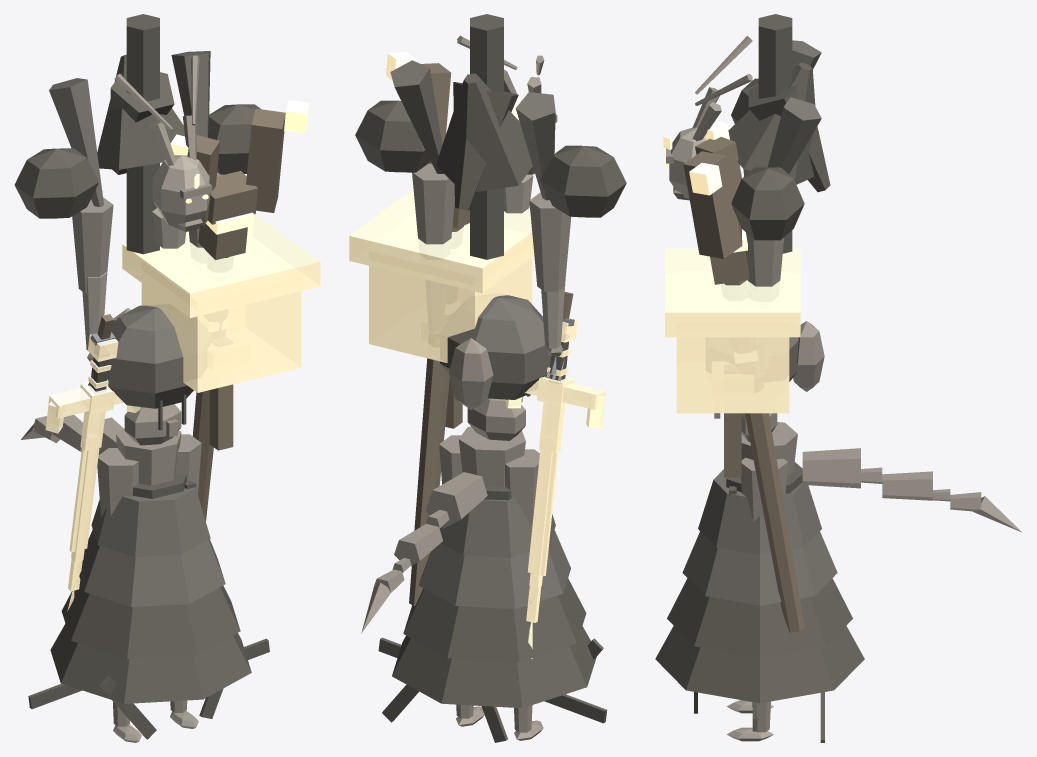
Rendered from margit.glb.
The picture shows the model from 3 angles, left to right: view 1: azimuth 30°, elevation 25°; view 2: azimuth 150°, elevation 25°; view 3: azimuth 270°, elevation 25°; orthographic projection. The views are drawn at different scales.
Visible parts, largest first — view 1: hammerFace, hammerHead, robe2, robe3, robe1, chest, robe0, yoke, deltL, cloakCollar, staffForkR, skull (+29 smaller); view 2: robe3, robe2, hammerFace, hammerHead, robe1, chest, cloakCollar, deltL, yoke, robe0, staffShaft, deltR (+25 smaller); view 3: hammerFace, robe3, hammerHead, robe2, robe1, robe0, staffShaft, deltR, staffForkR, cloakCollar, yoke, cowlR (+13 smaller).
Part boxes in pixels (<box>): hammerFace: <box>122,214,320,318</box>; hammerHead: <box>141,283,301,392</box>; robe2: <box>61,580,240,658</box>; robe3: <box>50,624,251,703</box>; robe1: <box>79,530,225,607</box>; chest: <box>107,305,193,408</box>; robe0: <box>91,479,210,556</box>; yoke: <box>126,14,159,254</box>; deltL: <box>14,148,99,218</box>; cloakCollar: <box>97,54,184,169</box>; staffForkR: <box>246,108,285,212</box>; skull: <box>152,155,209,227</box>; robe3: <box>392,626,596,708</box>; robe2: <box>403,578,586,662</box>; hammerFace: <box>349,189,534,293</box>; hammerHead: <box>369,257,532,362</box>; robe1: <box>418,530,570,609</box>; chest: <box>440,295,550,399</box>; cloakCollar: <box>436,73,532,191</box>; deltL: <box>540,145,626,217</box>; yoke: <box>470,14,503,259</box>; robe0: <box>439,498,555,557</box>; staffShaft: <box>409,226,463,606</box>; deltR: <box>355,100,441,172</box>; hammerFace: <box>665,248,800,337</box>; robe3: <box>655,626,864,703</box>; hammerHead: <box>676,337,789,413</box>; robe2: <box>667,578,852,657</box>; robe1: <box>682,531,837,605</box>; robe0: <box>698,469,821,554</box>; staffShaft: <box>724,280,804,632</box>; deltR: <box>731,167,804,240</box>; staffForkR: <box>683,151,742,258</box>; cloakCollar: <box>728,62,815,184</box>; yoke: <box>758,14,792,253</box>; cowlR: <box>767,97,821,173</box>.
Size of the model in its own units: 1.53 by 4 by 1.89.
